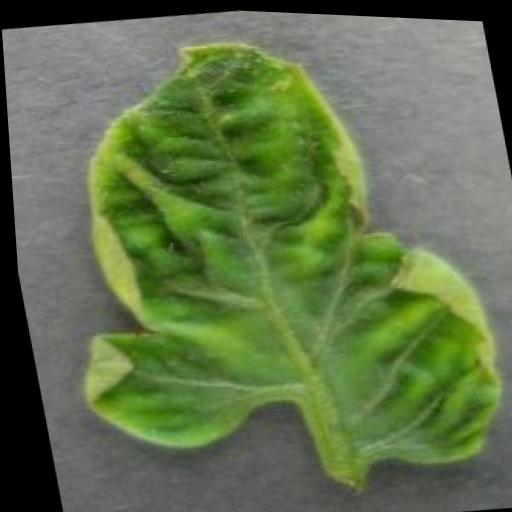Yellow Leaf Curl Virus: (16, 6, 512, 504)
